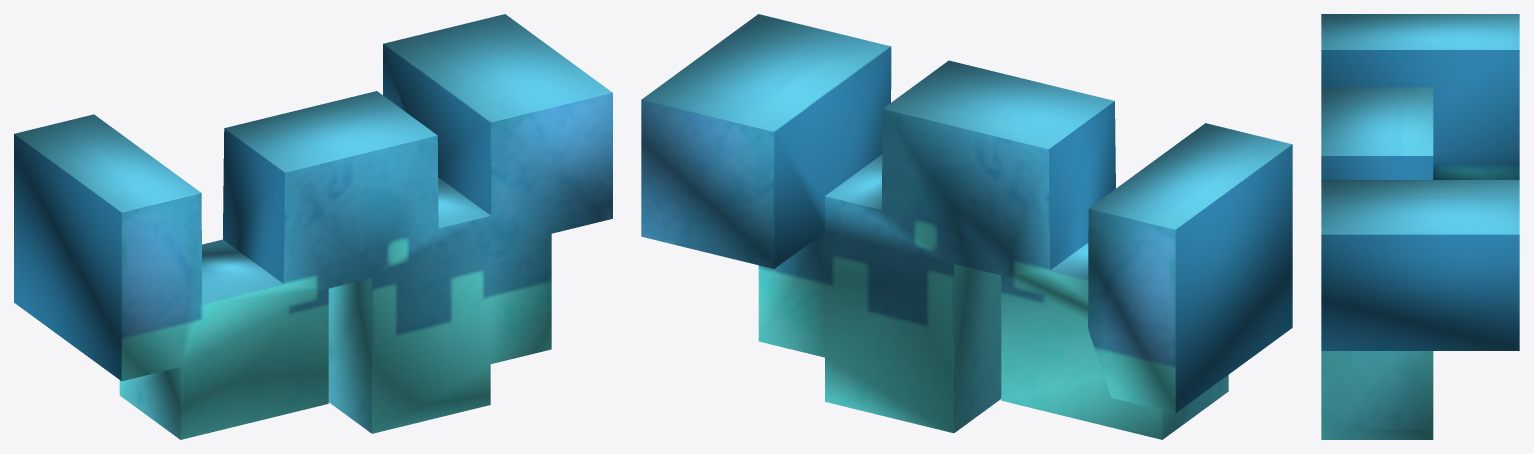
File: pvp_ zhuankuai_02.FBX
The picture shows the model from 3 angles, left to right: view 1: azimuth 30°, elevation 25°; view 2: azimuth 150°, elevation 25°; view 3: azimuth 270°, elevation 25°; orthographic projection. The views are drawn at different scales.
Visible parts, largest first — view 1: pvp_ zhuankuai_02; view 2: pvp_ zhuankuai_02; view 3: pvp_ zhuankuai_02.
Part boxes in pixels (box(x1,y1,x2,y2)): pvp_ zhuankuai_02: box(14, 14, 612, 439); pvp_ zhuankuai_02: box(641, 14, 1292, 439); pvp_ zhuankuai_02: box(1321, 14, 1519, 439).
Size of the model in its own units: 1.99 by 1.09 by 0.7538.
